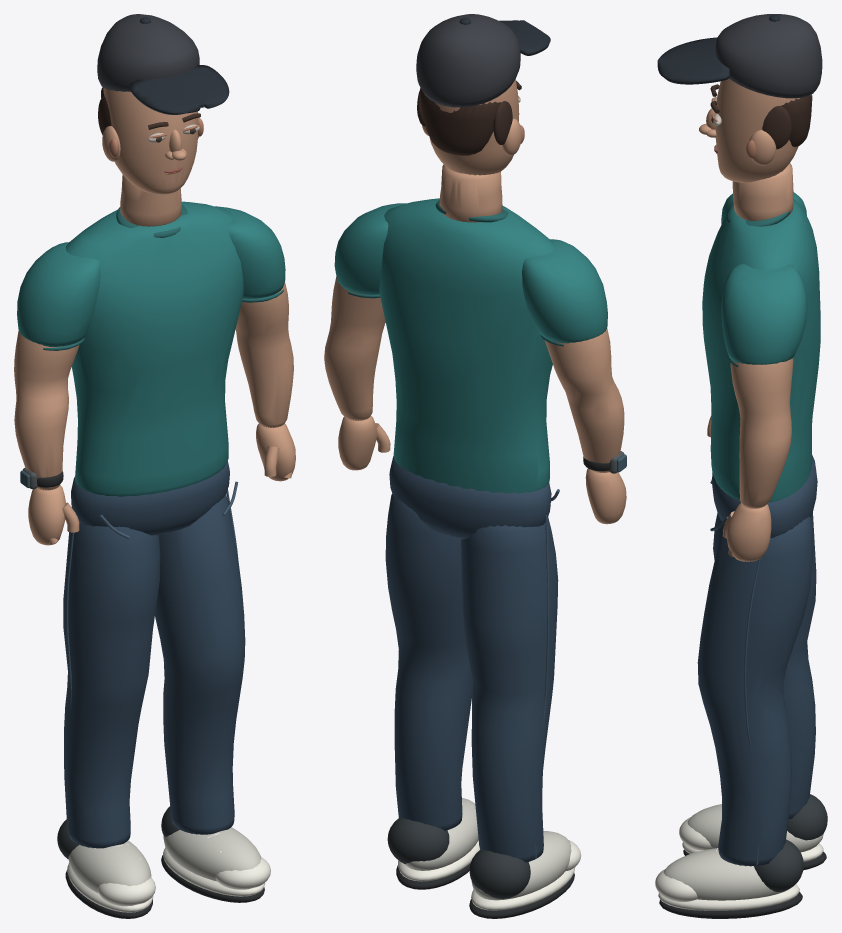
The model's file is Dittmann_Cap.glb.
The picture shows the model from 3 angles, left to right: view 1: azimuth 30°, elevation 25°; view 2: azimuth 150°, elevation 25°; view 3: azimuth 270°, elevation 25°; orthographic projection.
Visible parts, largest first — view 1: Fabian_Dittmann_Cap_Jeans Dunkelblau, Fabian_Dittmann_Cap_T-Shirt Petrol, Fabian_Dittmann_Cap_Haut, Fabian_Dittmann_Cap_Sneaker Obermaterial, Baseballcap, Fabian_Dittmann_Cap_Sneaker Zwischensohle, Fabian_Dittmann_Cap_Cap Naht und Schirm, Fabian_Dittmann_Cap_Reifengummi, Fabian_Dittmann_Cap_Jeans Naehte, Fabian_Dittmann_Cap_Kunststoff anthrazit, Fabian_Dittmann_Cap_T-Shirt Rippbund, Fabian_Dittmann_Cap_Dunkelbraunes Haar; view 2: Fabian_Dittmann_Cap_Jeans Dunkelblau, Fabian_Dittmann_Cap_T-Shirt Petrol, Fabian_Dittmann_Cap_Haut, Baseballcap, Fabian_Dittmann_Cap_Kunststoff anthrazit, Fabian_Dittmann_Cap_Dunkelbraunes Haar, Fabian_Dittmann_Cap_Sneaker Obermaterial, Fabian_Dittmann_Cap_Sneaker Zwischensohle, Fabian_Dittmann_Cap_Reifengummi, Fabian_Dittmann_Cap_Cap Naht und Schirm; view 3: Fabian_Dittmann_Cap_Jeans Dunkelblau, Fabian_Dittmann_Cap_T-Shirt Petrol, Fabian_Dittmann_Cap_Haut, Baseballcap, Fabian_Dittmann_Cap_Sneaker Obermaterial, Fabian_Dittmann_Cap_Sneaker Zwischensohle, Fabian_Dittmann_Cap_Kunststoff anthrazit, Fabian_Dittmann_Cap_Cap Naht und Schirm, Fabian_Dittmann_Cap_Dunkelbraunes Haar, Fabian_Dittmann_Cap_Reifengummi, Fabian_Dittmann_Cap_Jeans Naehte, Fabian_Dittmann_Cap_T-Shirt Rippbund.
Boxes of the visible parts, left/top/right/bottom form: Fabian_Dittmann_Cap_Jeans Dunkelblau: left=63, top=461, right=245, bottom=848; Fabian_Dittmann_Cap_T-Shirt Petrol: left=17, top=201, right=285, bottom=496; Fabian_Dittmann_Cap_Haut: left=14, top=88, right=295, bottom=545; Fabian_Dittmann_Cap_Sneaker Obermaterial: left=68, top=827, right=261, bottom=893; Baseballcap: left=97, top=14, right=199, bottom=91; Fabian_Dittmann_Cap_Sneaker Zwischensohle: left=67, top=847, right=270, bottom=912; Fabian_Dittmann_Cap_Cap Naht und Schirm: left=129, top=17, right=229, bottom=114; Fabian_Dittmann_Cap_Reifengummi: left=65, top=855, right=264, bottom=918; Fabian_Dittmann_Cap_Jeans Naehte: left=66, top=481, right=238, bottom=838; Fabian_Dittmann_Cap_Kunststoff anthrazit: left=57, top=129, right=194, bottom=858; Fabian_Dittmann_Cap_T-Shirt Rippbund: left=43, top=204, right=283, bottom=350; Fabian_Dittmann_Cap_Dunkelbraunes Haar: left=98, top=87, right=200, bottom=135; Fabian_Dittmann_Cap_Jeans Dunkelblau: left=385, top=456, right=558, bottom=862; Fabian_Dittmann_Cap_T-Shirt Petrol: left=334, top=198, right=607, bottom=493; Fabian_Dittmann_Cap_Haut: left=324, top=79, right=626, bottom=524; Baseballcap: left=416, top=14, right=520, bottom=107; Fabian_Dittmann_Cap_Kunststoff anthrazit: left=387, top=817, right=530, bottom=898; Fabian_Dittmann_Cap_Dunkelbraunes Haar: left=417, top=80, right=521, bottom=155; Fabian_Dittmann_Cap_Sneaker Obermaterial: left=404, top=798, right=571, bottom=900; Fabian_Dittmann_Cap_Sneaker Zwischensohle: left=398, top=840, right=581, bottom=910; Fabian_Dittmann_Cap_Reifengummi: left=396, top=863, right=574, bottom=918; Fabian_Dittmann_Cap_Cap Naht und Schirm: left=459, top=18, right=550, bottom=55; Fabian_Dittmann_Cap_Jeans Dunkelblau: left=697, top=455, right=817, bottom=866; Fabian_Dittmann_Cap_T-Shirt Petrol: left=702, top=192, right=820, bottom=502; Fabian_Dittmann_Cap_Haut: left=699, top=78, right=811, bottom=561; Baseballcap: left=715, top=14, right=822, bottom=98; Fabian_Dittmann_Cap_Sneaker Obermaterial: left=663, top=804, right=823, bottom=900; Fabian_Dittmann_Cap_Sneaker Zwischensohle: left=655, top=817, right=823, bottom=910; Fabian_Dittmann_Cap_Kunststoff anthrazit: left=711, top=101, right=827, bottom=891; Fabian_Dittmann_Cap_Cap Naht und Schirm: left=657, top=15, right=780, bottom=84; Fabian_Dittmann_Cap_Dunkelbraunes Haar: left=710, top=84, right=812, bottom=149; Fabian_Dittmann_Cap_Reifengummi: left=659, top=849, right=826, bottom=918; Fabian_Dittmann_Cap_Jeans Naehte: left=710, top=479, right=760, bottom=864; Fabian_Dittmann_Cap_T-Shirt Rippbund: left=726, top=208, right=794, bottom=366.
Size of the model in its own units: 0.6291 by 1.85 by 0.3318.
